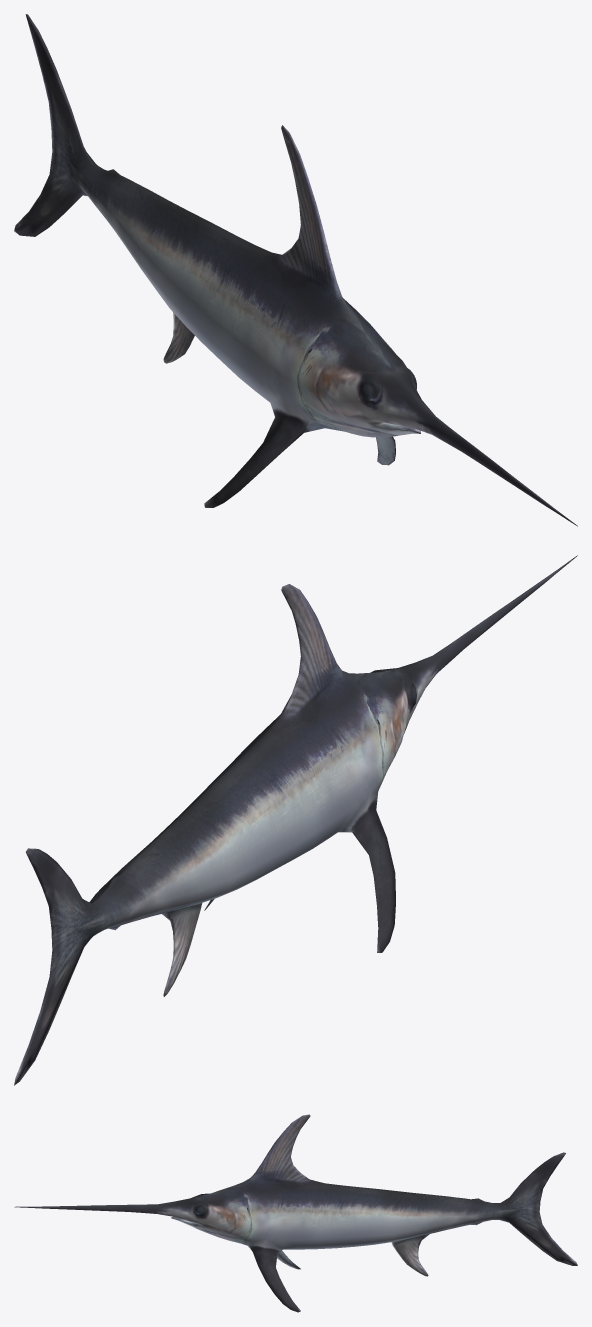
3 renders of one model, top to bottom at view 1: azimuth 30°, elevation 25°; view 2: azimuth 150°, elevation 25°; view 3: azimuth 270°, elevation 25°, orthographic. The views are drawn at different scales.
Parts seen in each view (by area): view 1: primary, off, secondary2; view 2: primary, off, secondary2; view 3: primary, off, secondary2.
Boxes of the visible parts, x1,y1,x2,y2 form: primary: (14, 14, 330, 424); off: (280, 255, 577, 526); secondary2: (204, 125, 395, 507); primary: (14, 652, 371, 1085); off: (322, 555, 577, 819); secondary2: (204, 584, 395, 952); primary: (259, 1152, 577, 1271); off: (14, 1162, 271, 1252); secondary2: (253, 1114, 310, 1312).
Bounding box in the file's own units: 0.5627 × 1.07 × 3.09.
Materials: 1 (1 with a texture image).
